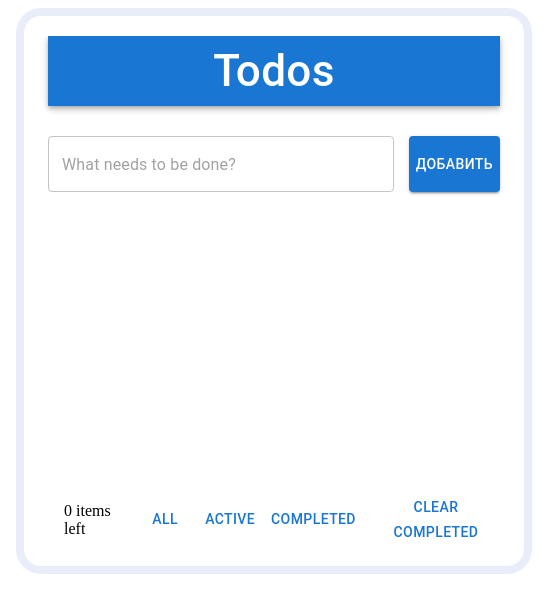
Test: добавление задачи
Note: Добавляем задачу
Step 1. Type "Новая задача" into the field with placeholder "What needs to be done?" → x=221, y=164, box [48,136,394,192]
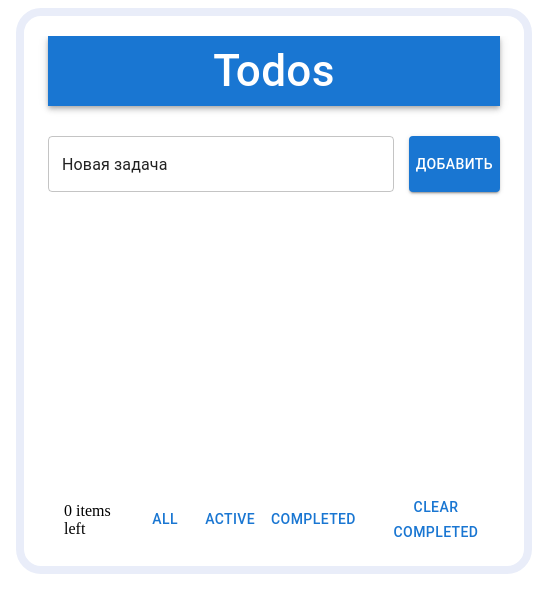
Step 2. Click the button "Добавить" → x=454, y=164, box [409,136,500,192]
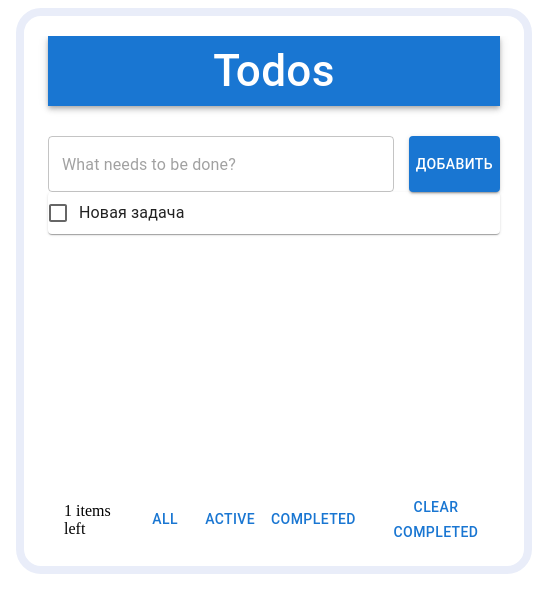
expect the text "Новая задача" is shown: met, box [79,201,184,225]
